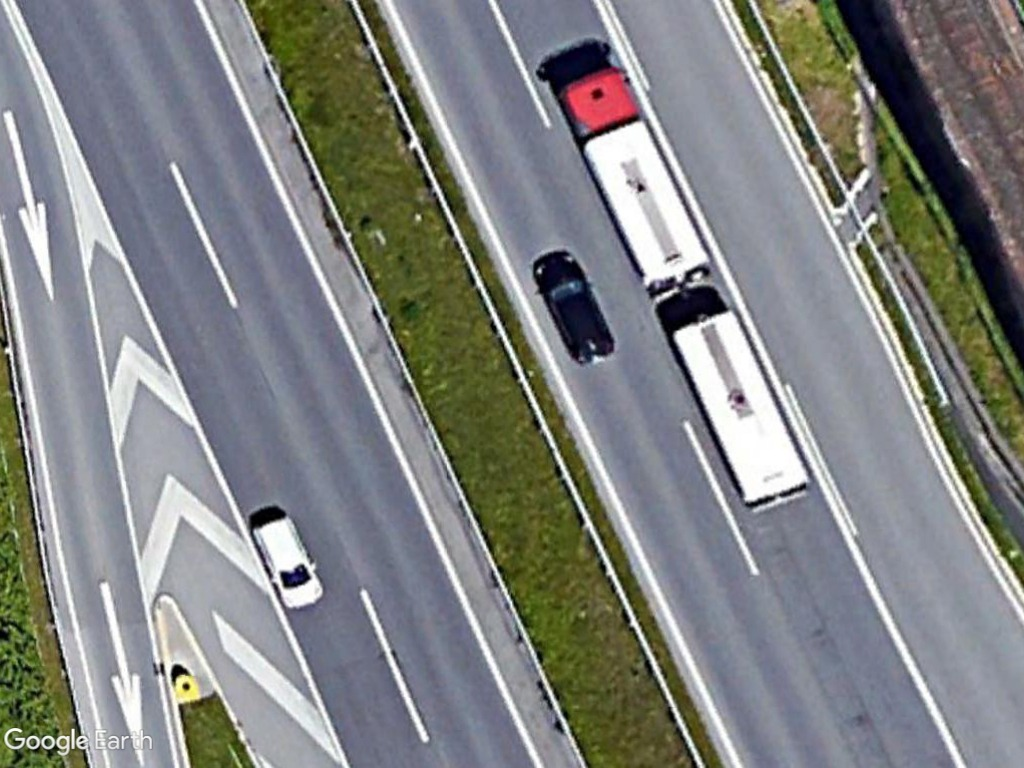car: (536, 245, 623, 370)
truck: (559, 65, 716, 308)
van: (247, 506, 327, 617)
